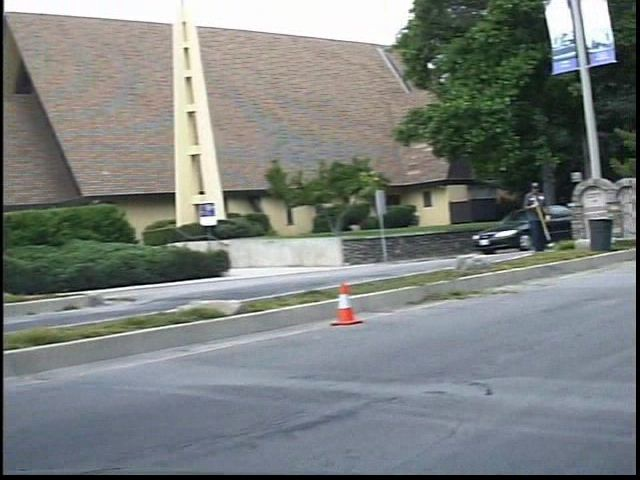person: (532, 175, 566, 256)
